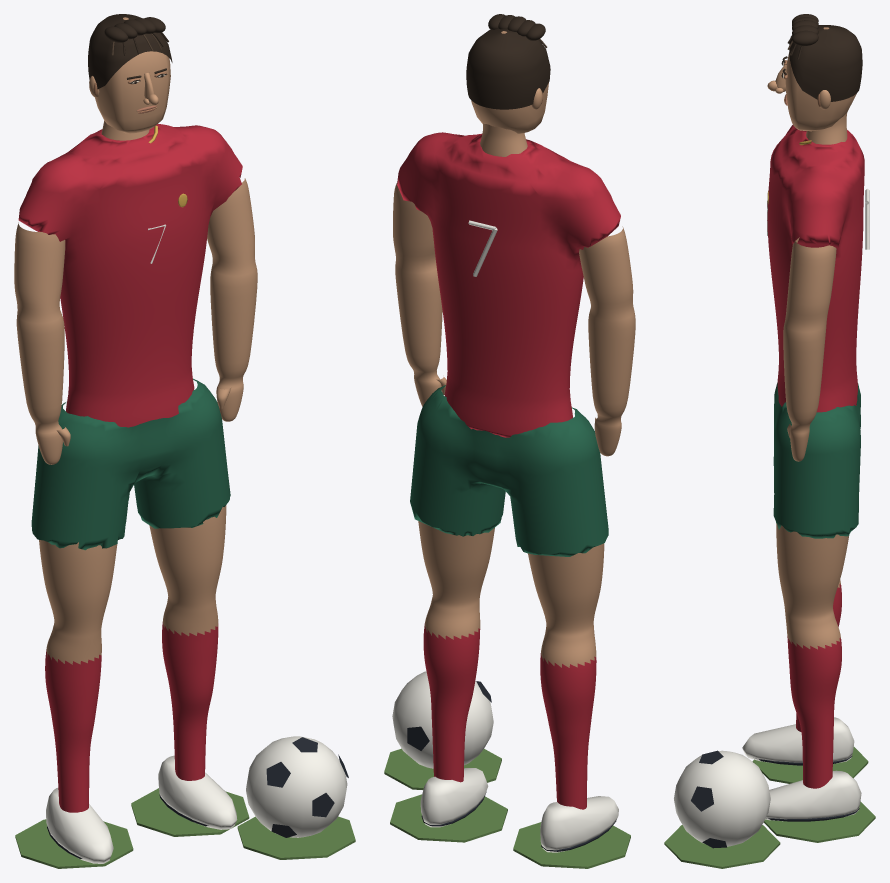
Rendered from ronaldo.glb.
3 renders of one model, left to right at view 1: azimuth 30°, elevation 25°; view 2: azimuth 150°, elevation 25°; view 3: azimuth 270°, elevation 25°, orthographic. The views are drawn at different scales.
Visible parts, largest first — view 1: jersey_crimson, shorts_green, arms_tan, legs_tan, legs_crimson, turf_grass, football_white, boots_white, head_tan, hair_cap_hair, football_panels_ink, quiff_hair; view 2: jersey_crimson, shorts_green, arms_tan, legs_tan, legs_crimson, turf_grass, boots_white, hair_cap_hair, football_white, head_tan, neck_tan, quiff_hair (+1 smaller); view 3: jersey_crimson, shorts_green, arms_tan, legs_tan, football_white, turf_grass, legs_crimson, boots_white, hair_cap_hair, head_tan, football_panels_ink, quiff_hair (+2 smaller).
Boxes of the visible parts, x1,y1,x2,y2 form: jersey_crimson: (18, 124, 242, 427); shorts_green: (31, 378, 230, 550); arms_tan: (14, 178, 257, 464); legs_tan: (39, 505, 226, 664); legs_crimson: (45, 622, 218, 812); turf_grass: (15, 788, 355, 868); football_white: (246, 736, 347, 837); boots_white: (46, 755, 237, 863); head_tan: (95, 17, 170, 133); hair_cap_hair: (88, 14, 172, 89); football_panels_ink: (266, 737, 348, 837); quiff_hair: (104, 17, 165, 42); jersey_crimson: (397, 132, 620, 437); shorts_green: (410, 385, 608, 556); arms_tan: (393, 183, 635, 456); legs_tan: (418, 521, 604, 667); legs_crimson: (423, 623, 596, 809); turf_grass: (384, 748, 630, 868); boots_white: (420, 768, 618, 852); hair_cap_hair: (466, 28, 550, 109); football_white: (392, 671, 493, 768); head_tan: (471, 31, 548, 133); neck_tan: (480, 123, 527, 156); quiff_hair: (488, 14, 545, 40); jersey_crimson: (767, 125, 864, 412); shorts_green: (773, 382, 860, 538); arms_tan: (783, 237, 836, 461); legs_tan: (776, 523, 849, 649); football_white: (674, 750, 770, 846); turf_grass: (664, 746, 875, 868); legs_crimson: (787, 584, 841, 788); boots_white: (742, 717, 861, 821); hair_cap_hair: (789, 25, 862, 101); head_tan: (785, 27, 856, 131); football_panels_ink: (691, 750, 726, 848); quiff_hair: (792, 14, 818, 45).
Bounding box in the file's own units: 0.6986 × 1.89 × 0.4705.
